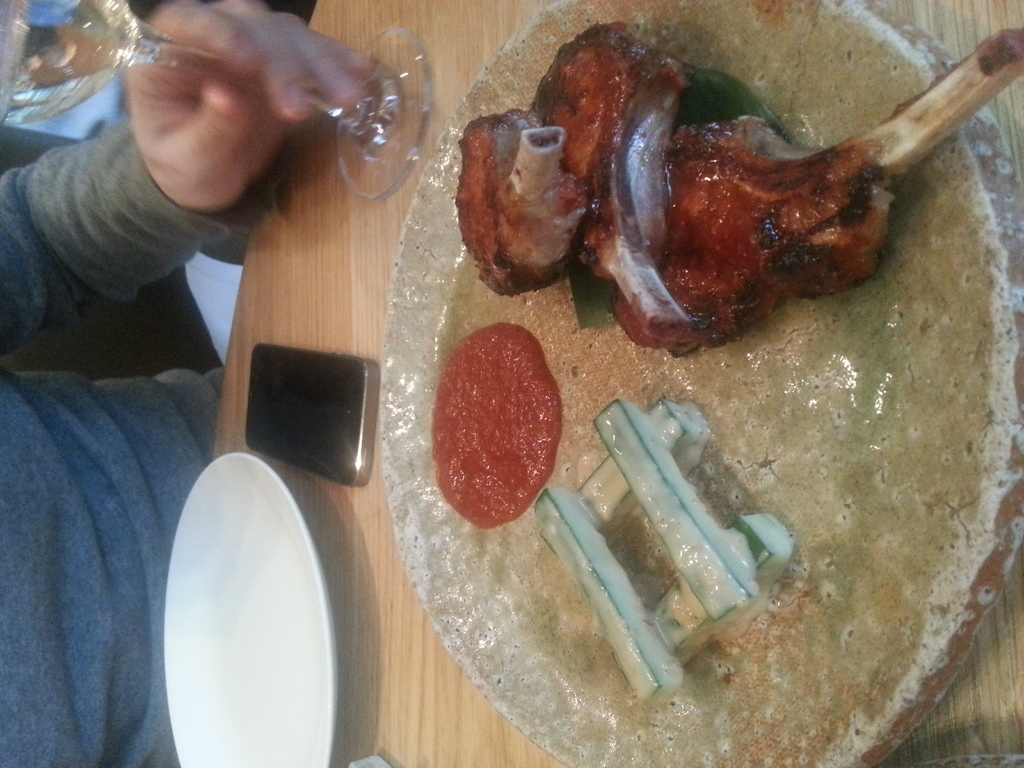plate: (163, 454, 328, 767)
